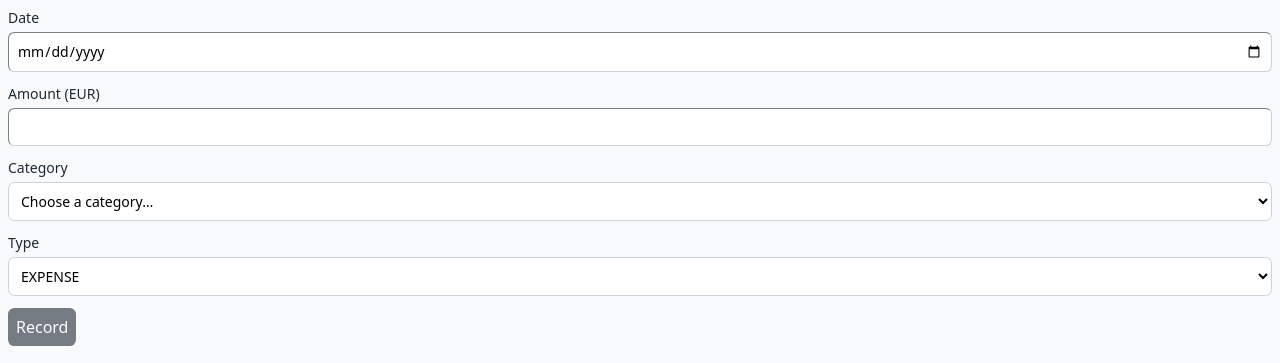
RecordTransactionForm › stays shut until a category is actually picked
Check: the button "Record" is disabled, box [8, 308, 76, 346]
Select "Groceries" in the dropdown labelled "Category" at (640, 202), box [8, 182, 1272, 221]
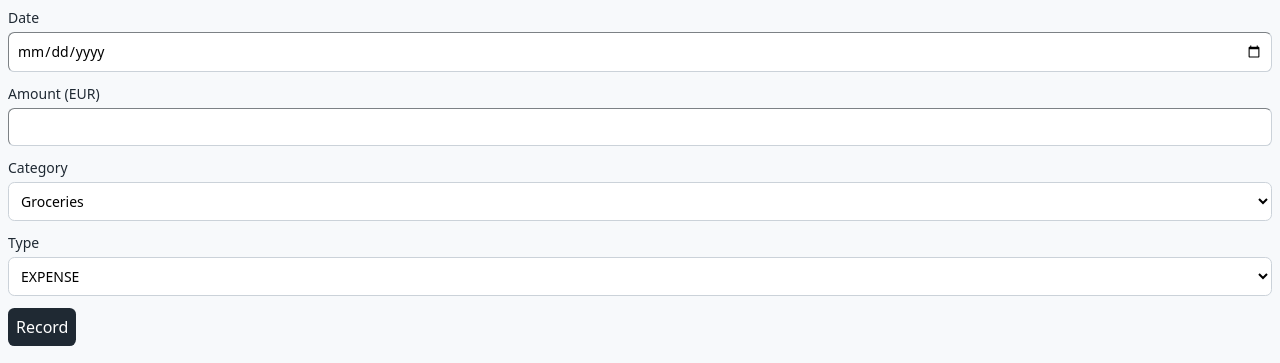
Check: the button "Record" is enabled, box [8, 308, 76, 346]
